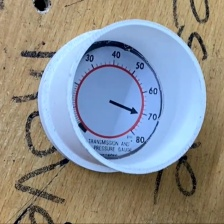gauge: (72, 44, 162, 159)
